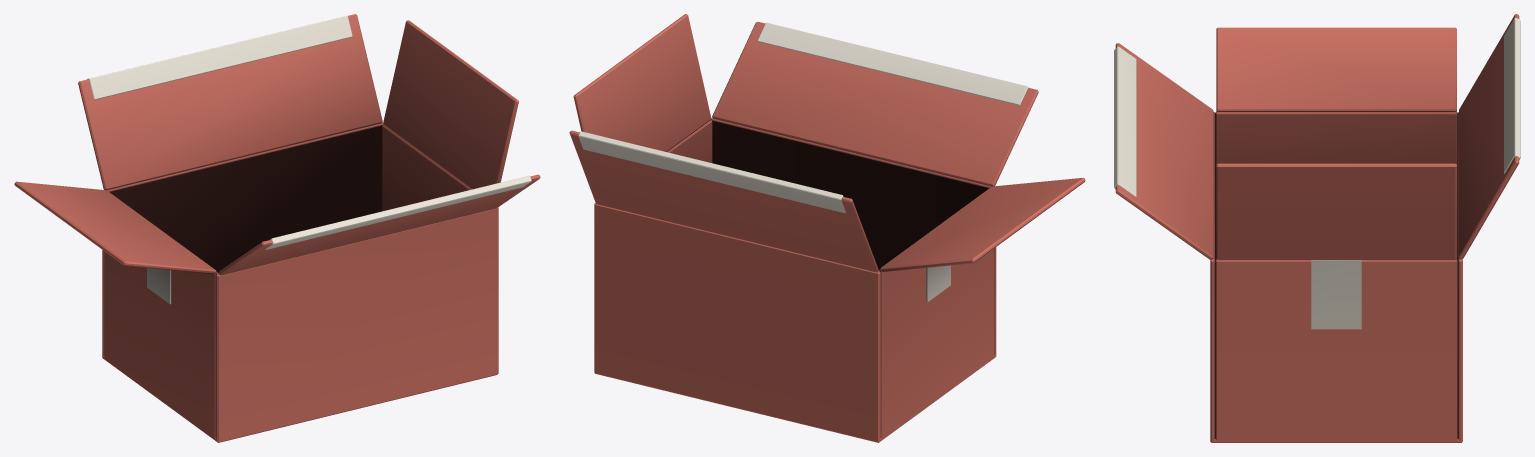
File: junk_box_food.glb
3 views of the same model, side by side, from view 1: azimuth 30°, elevation 25°; view 2: azimuth 150°, elevation 25°; view 3: azimuth 270°, elevation 25° (orthographic). The views are drawn at different scales.
Parts seen in each view (by area): view 1: PART; view 2: PART; view 3: PART.
Boxes of the visible parts, <box> form: PART: <box>14,14,540,442</box>; PART: <box>569,14,1085,442</box>; PART: <box>1114,14,1520,442</box>.
Bounding box in the file's own units: 0.4917 × 0.3176 × 0.4023.
